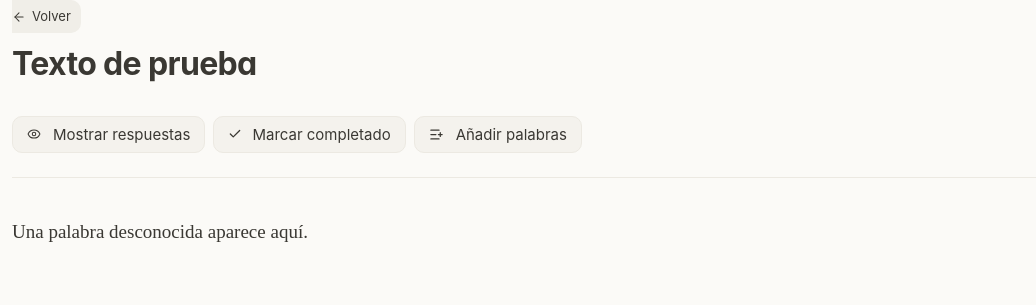
Test: TextReader word collection mode › adds an unregistered word to review with its source sentence
What coordinates should you click on to do the following:
click the button "Añadir palabras"
I would click on:
 (498, 134)
Its box is x1=414 y1=116 x2=582 y2=153.
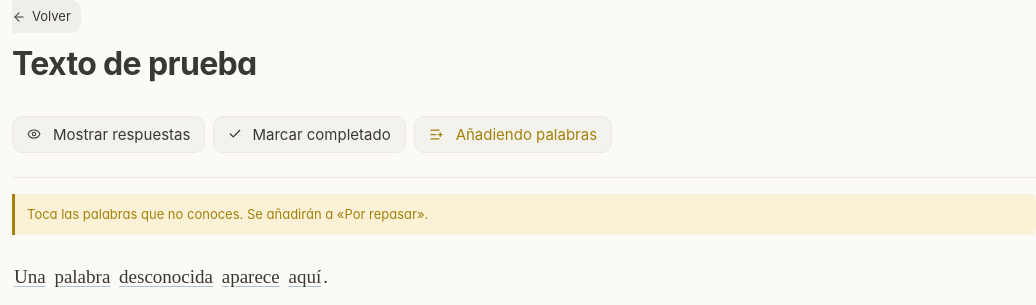
What coordinates should you click on to do the following:
click the text "desconocida"
I would click on:
 (166, 277)
Its box is x1=117 y1=265 x2=215 y2=288.
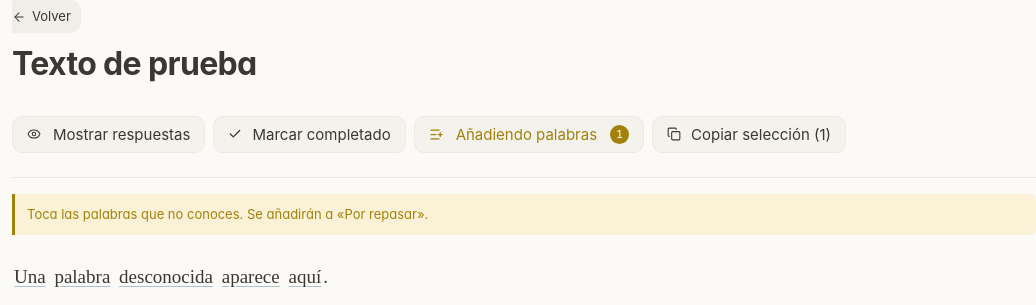
What coordinates should you click on to do the following:
click the text "desconocida"
I would click on:
 (166, 277)
Its box is x1=117 y1=265 x2=215 y2=288.
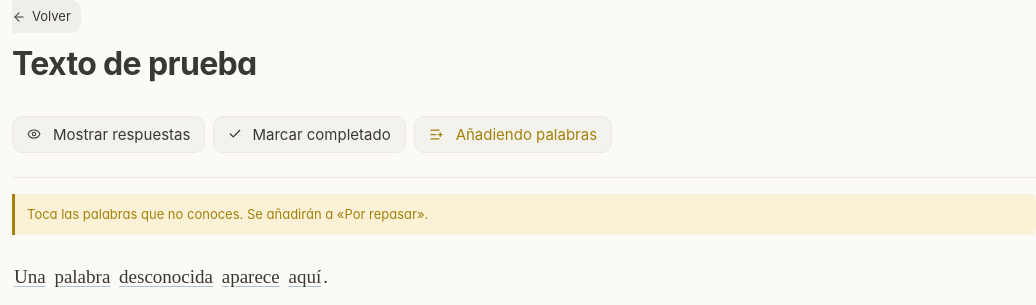
Now the text "1" is gone
